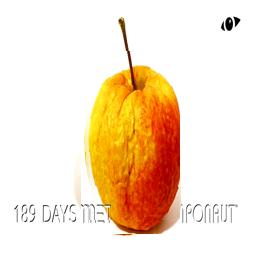Apple Semirotten: (81, 0, 180, 234)
